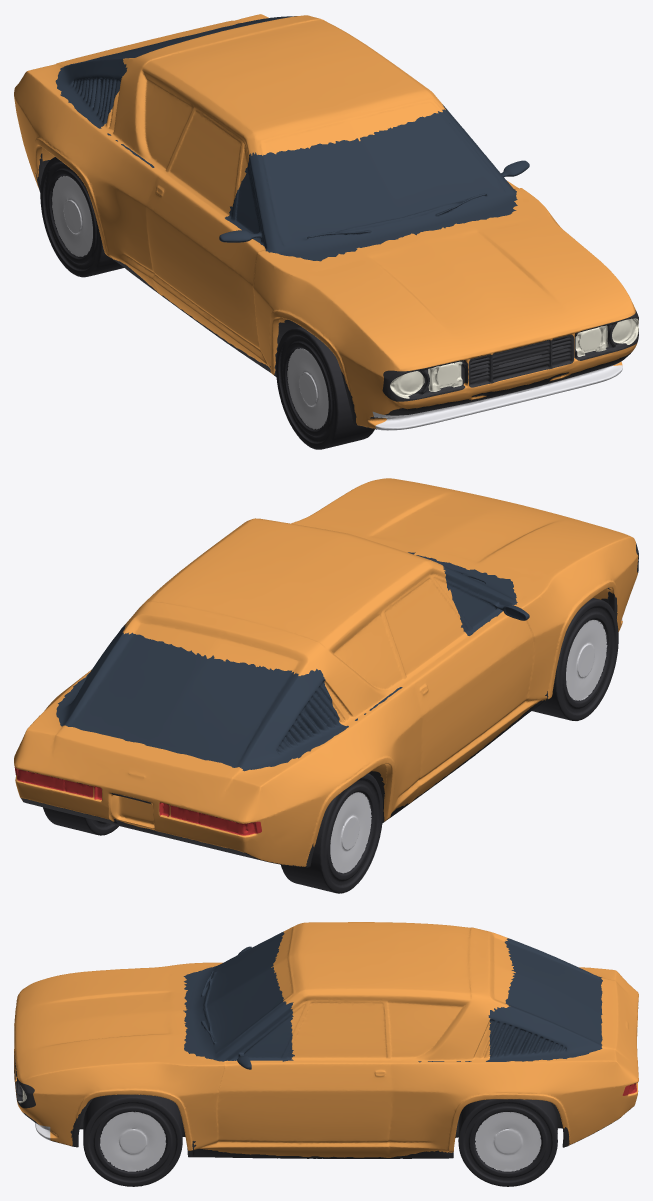
3 renders of one model, top to bottom at view 1: azimuth 30°, elevation 25°; view 2: azimuth 150°, elevation 25°; view 3: azimuth 270°, elevation 25°, orthographic. The views are drawn at different scales.
Parts seen in each view (by area): view 1: Body, Wheel_FR, Wheel_RR; view 2: Body, Wheel_RR, Wheel_FR, Wheel_RL; view 3: Body, Wheel_FL, Wheel_RL.
Part boxes in pixels (box(x1,y1,x2,y2)): Body: box(14, 14, 638, 430); Wheel_FR: box(275, 326, 374, 449); Wheel_RR: box(40, 157, 123, 277); Body: box(14, 478, 638, 867); Wheel_RR: box(281, 773, 383, 893); Wheel_FR: box(532, 598, 618, 720); Wheel_RL: box(43, 807, 118, 835); Body: box(14, 922, 638, 1158); Wheel_FL: box(83, 1094, 182, 1186); Wheel_RL: box(458, 1099, 557, 1186).
Size of the model in its own units: 1.81 by 1.27 by 4.
